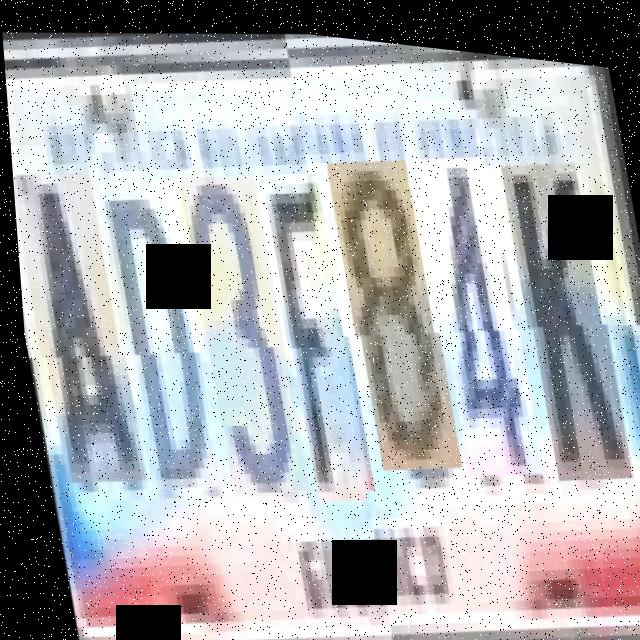3: (175, 166, 304, 499)
4: (413, 153, 541, 486)
8: (328, 157, 460, 482)
A: (10, 164, 142, 489)
D: (95, 170, 218, 493)
F: (259, 162, 375, 503)
K: (503, 157, 633, 491)
